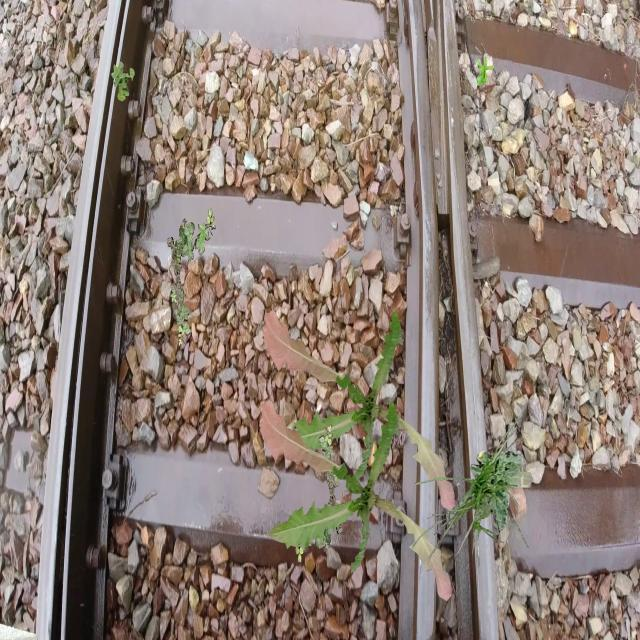Plant: (263, 309, 456, 512), (259, 399, 452, 602), (412, 415, 530, 578), (167, 209, 216, 347), (294, 425, 342, 563), (470, 451, 534, 534), (111, 61, 135, 102), (477, 57, 494, 89)
